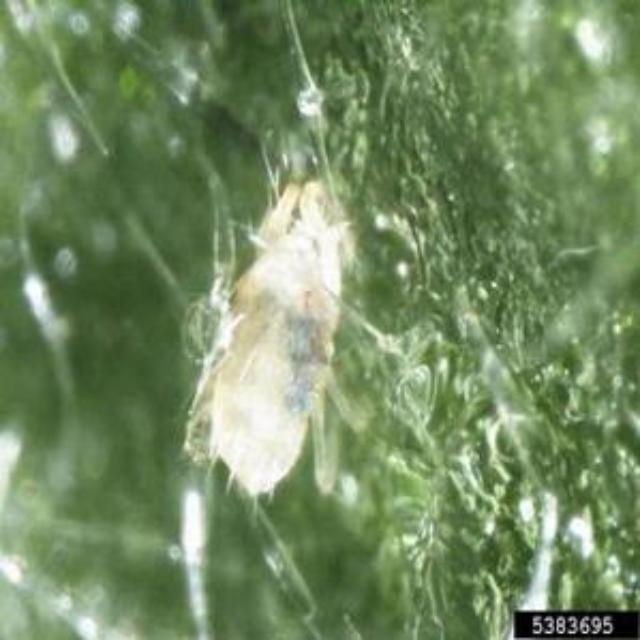spider mite: (136, 132, 418, 530)
